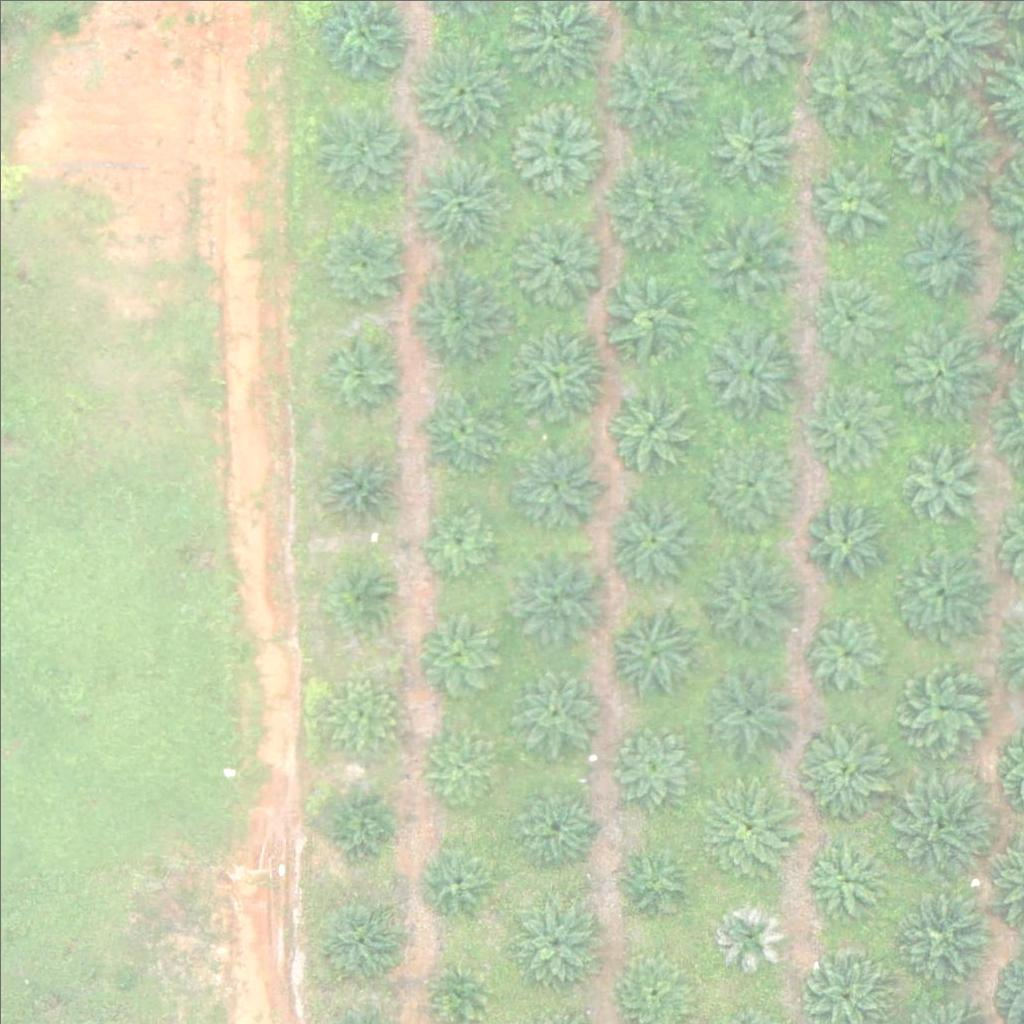Kelapa_Sawit: (885, 765, 997, 879), (891, 887, 991, 988), (693, 778, 793, 879), (510, 544, 610, 645), (605, 713, 705, 814), (605, 603, 705, 704), (699, 663, 799, 764), (886, 322, 986, 423), (696, 210, 796, 311), (601, 157, 701, 258), (596, 36, 696, 137), (505, 97, 605, 198), (403, 152, 503, 253), (410, 41, 510, 142), (407, 264, 507, 364), (507, 325, 607, 425), (601, 268, 701, 368), (696, 548, 796, 648), (701, 321, 801, 421), (791, 720, 891, 820), (892, 658, 992, 758), (888, 542, 988, 642), (888, 95, 988, 195), (800, 37, 900, 137), (507, 778, 595, 867), (511, 213, 599, 302), (608, 839, 696, 927), (317, 321, 405, 409), (317, 893, 405, 981), (414, 384, 502, 472), (512, 665, 600, 753), (513, 440, 601, 528), (800, 603, 888, 691), (706, 100, 794, 188), (417, 612, 504, 700), (314, 440, 401, 528), (511, 893, 598, 981), (609, 492, 696, 580), (606, 381, 693, 469), (706, 432, 793, 520), (894, 440, 981, 528), (318, 220, 405, 308), (318, 105, 405, 193), (806, 841, 881, 917), (804, 498, 879, 574), (806, 387, 881, 463), (903, 217, 978, 293), (809, 164, 884, 240), (416, 841, 491, 916), (418, 499, 493, 574), (326, 678, 401, 753), (319, 786, 394, 861), (710, 895, 785, 970), (424, 730, 499, 805), (814, 273, 889, 348), (333, 567, 396, 630), (426, 958, 489, 1021)
